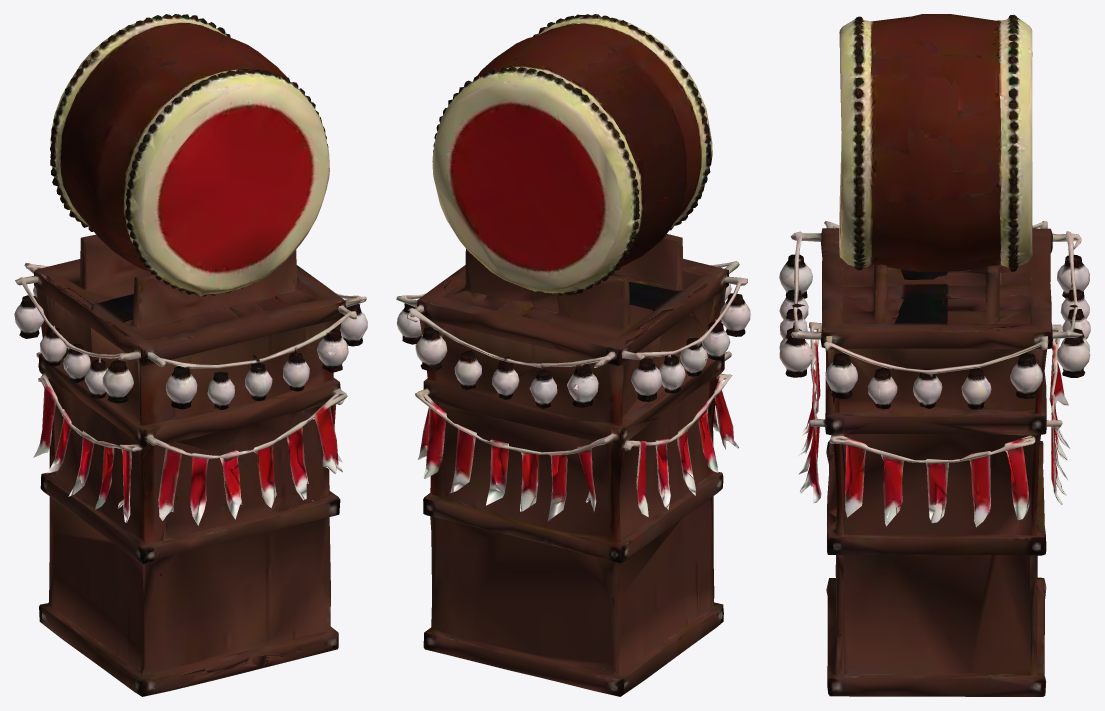
Rendered from prop_hanabi_yagura.fbx.
3 views of the same model, side by side, from view 1: azimuth 30°, elevation 25°; view 2: azimuth 150°, elevation 25°; view 3: azimuth 270°, elevation 25° (orthographic). The views are drawn at different scales.
Parts seen in each view (by area): view 1: geometry_0; view 2: geometry_0; view 3: geometry_0.
Part boxes in pixels (x1,y1,x2,y2): geometry_0: [14, 14, 367, 696]; geometry_0: [396, 14, 750, 696]; geometry_0: [779, 14, 1090, 696].
Bounding box in the file's own units: 0.4618 × 1 × 0.4552.
1 material, 1 textured.
